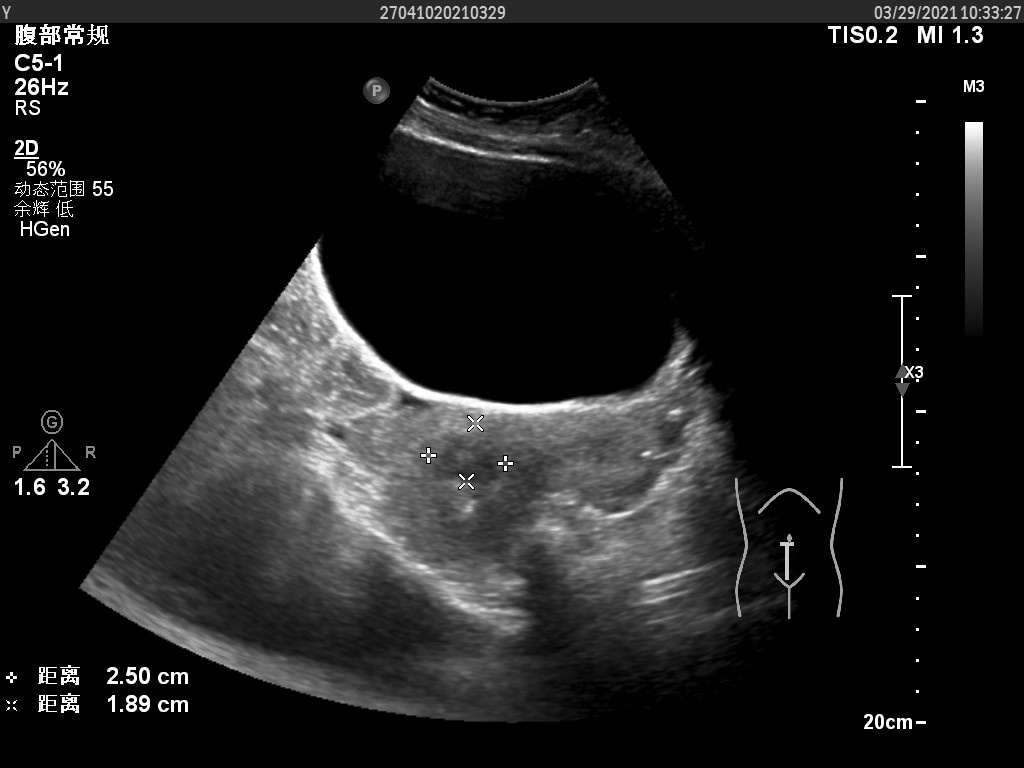肌瘤: (430, 422, 507, 479)
